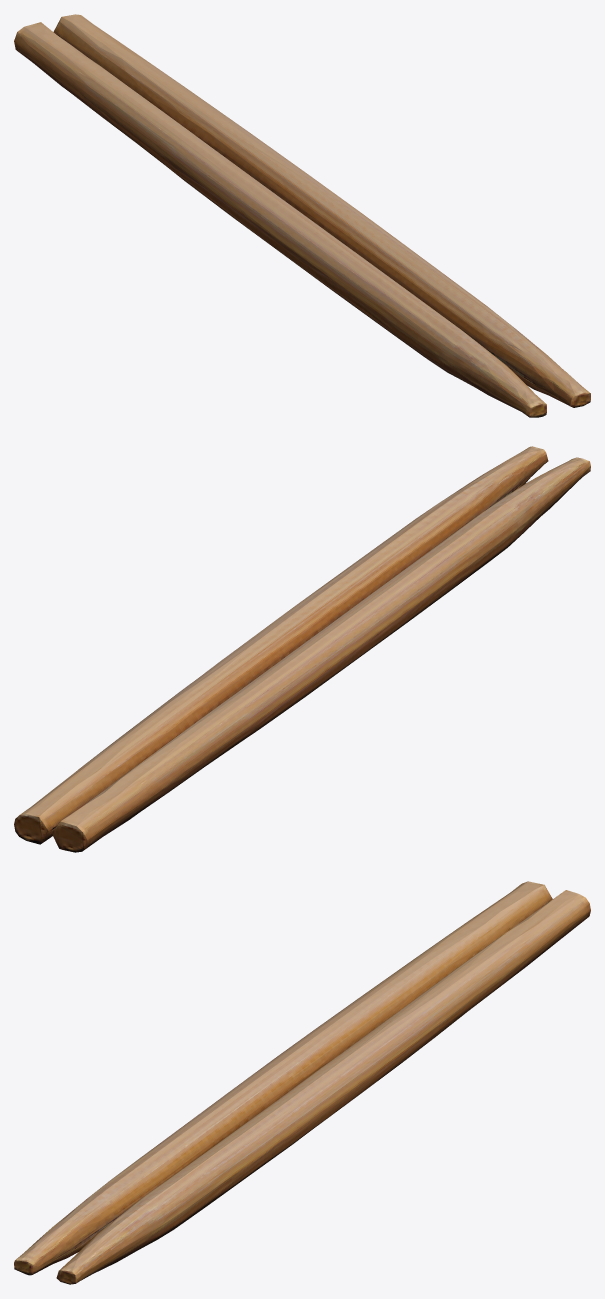
Rendered from wooden-chopsticks-3d.jpeg.glb.
3 views of the same model, one above another, from view 1: azimuth 30°, elevation 25°; view 2: azimuth 150°, elevation 25°; view 3: azimuth 330°, elevation 25° (orthographic).
Parts seen in each view (by area): view 1: world; view 2: world; view 3: world.
Boxes of the visible parts, x1,y1,x2,y2 form: world: [14, 14, 590, 417]; world: [14, 446, 590, 852]; world: [14, 881, 590, 1284].
Size of the model in its own units: 0.0976 by 0.0427 by 1.
1 material, 1 textured.
